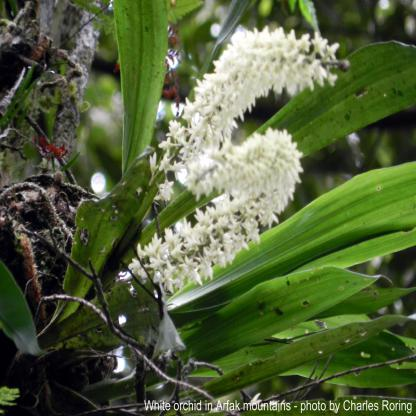ANGGREK: (132, 12, 368, 327)
